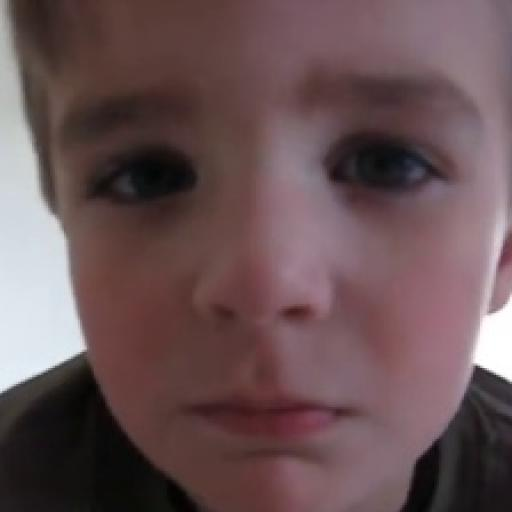Autism: (39, 16, 512, 512)
